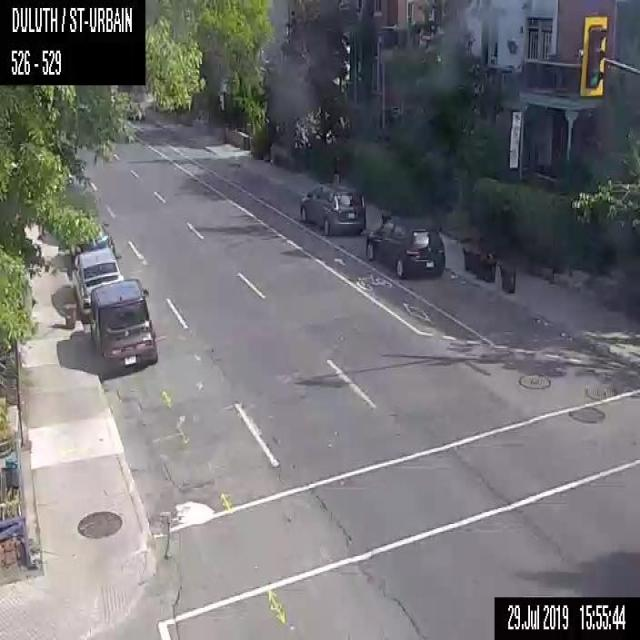vehicle: (89, 276, 158, 368), (365, 214, 445, 277), (298, 177, 366, 236), (71, 246, 124, 319), (71, 220, 116, 268)
